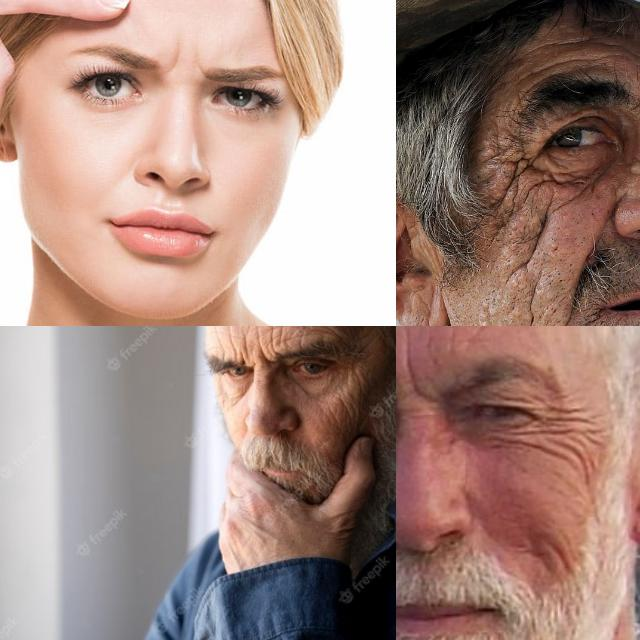crows_feet: (532, 399, 588, 451), (496, 146, 538, 190)
forehead: (544, 33, 618, 59), (445, 326, 494, 347), (267, 326, 285, 347), (226, 326, 238, 356), (317, 326, 342, 340)
frown_line: (397, 332, 427, 398), (166, 40, 204, 84), (238, 339, 252, 363), (256, 341, 268, 364)
masseter: (522, 207, 564, 263), (532, 526, 574, 574), (515, 308, 557, 326), (338, 397, 354, 427)
